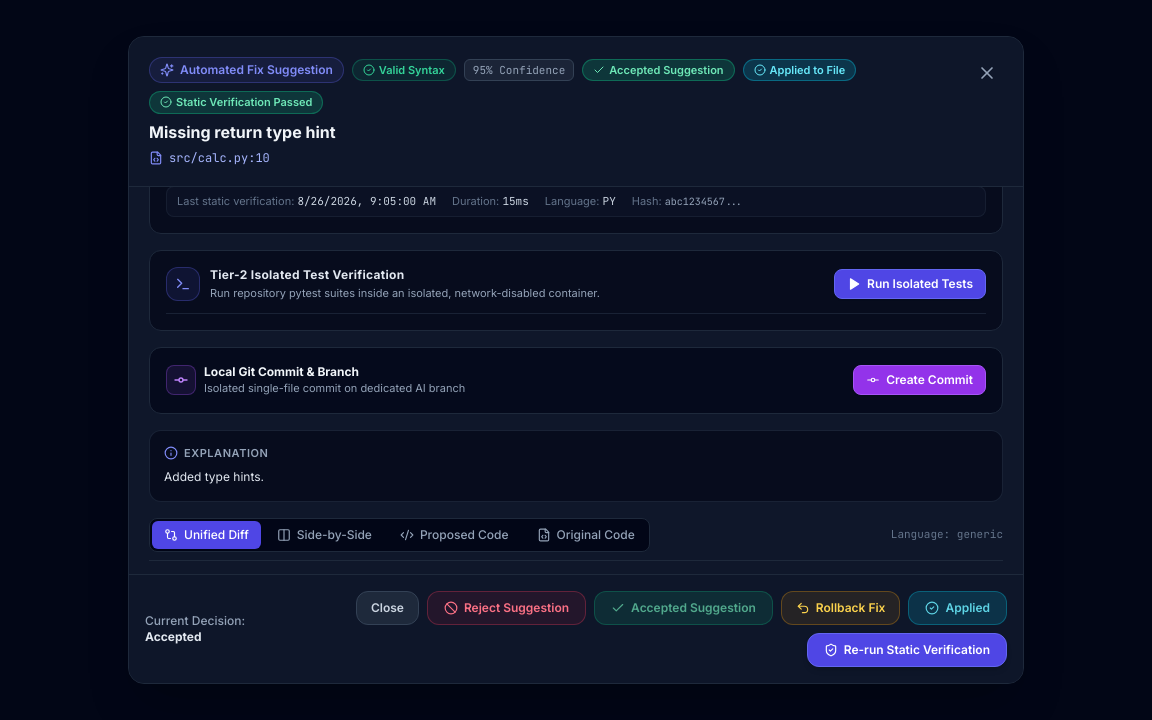
it: Phase 11.5B-3 — Local Git Commit Frontend UI › 12. Git Repository Required Error: Displays Git Repository Required without git-init button
(page scrolled)
Click the button with id "btn-open-create-commit" at (920, 380), box [853, 365, 986, 395]
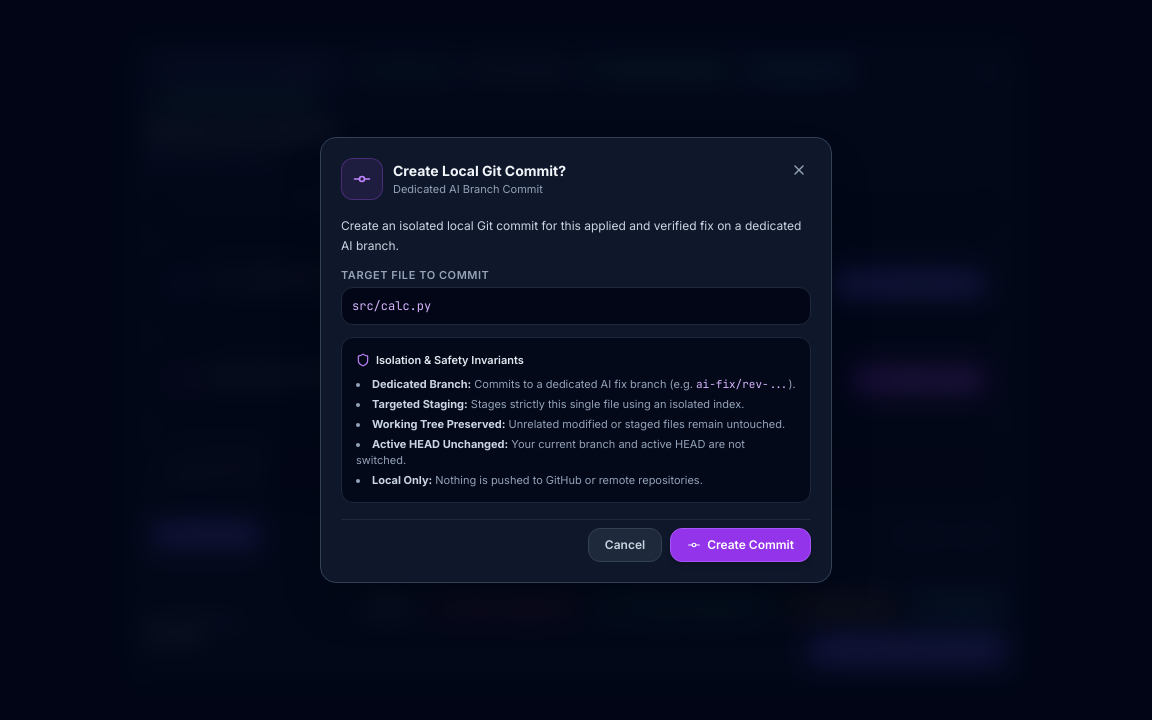
Click the button with id "btn-confirm-commit" at (741, 545), box [670, 528, 811, 562]
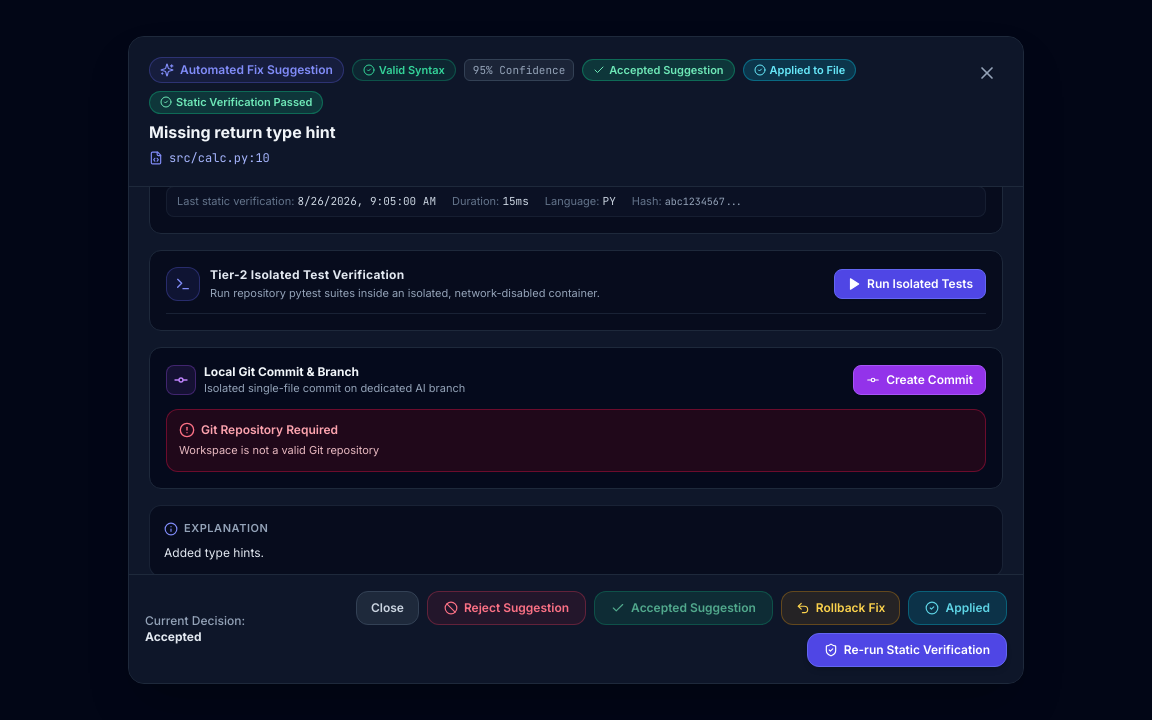
Now the text "Git Repository Required" is shown, box [201, 422, 338, 438]
